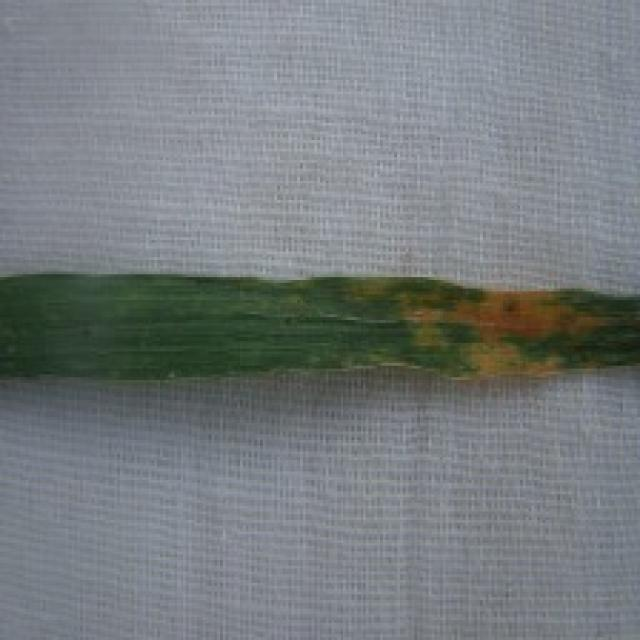Bacterial_Blight: (384, 275, 624, 384)
